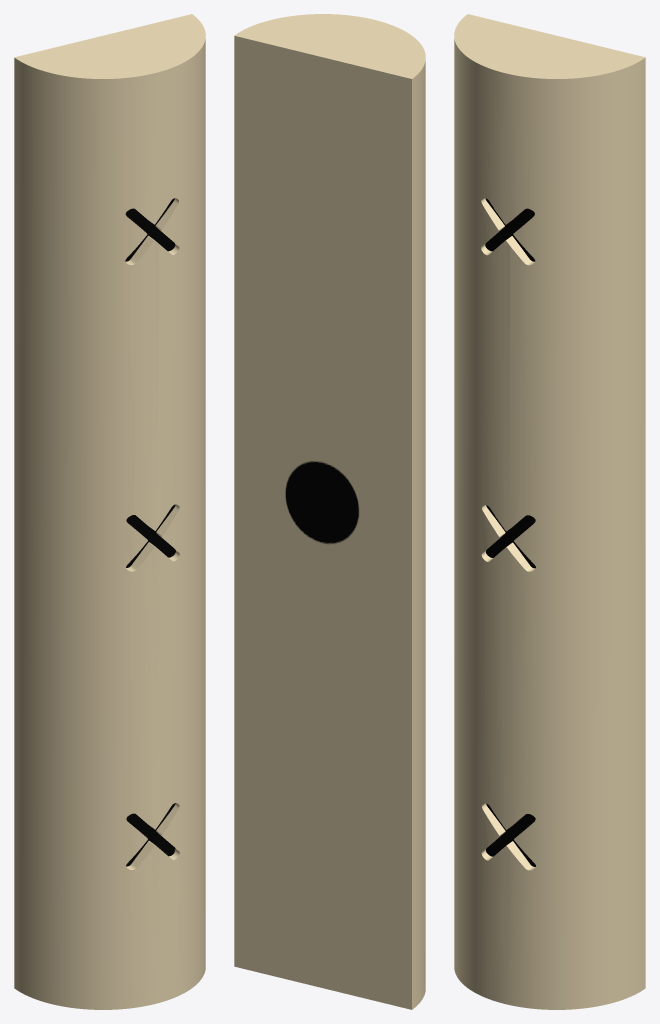
File: yut_textured.obj
The picture shows the model from 3 angles, left to right: view 1: azimuth 30°, elevation 25°; view 2: azimuth 150°, elevation 25°; view 3: azimuth 330°, elevation 25°; orthographic projection.
Parts seen in each view (by area): view 1: Default; view 2: Default; view 3: Default.
Boxes of the visible parts, box(x1,y1,x2,y2) form: Default: box(14, 14, 205, 1009); Default: box(234, 14, 425, 1009); Default: box(454, 14, 645, 1009).
Size of the model in its own units: 20 by 100 by 10.
